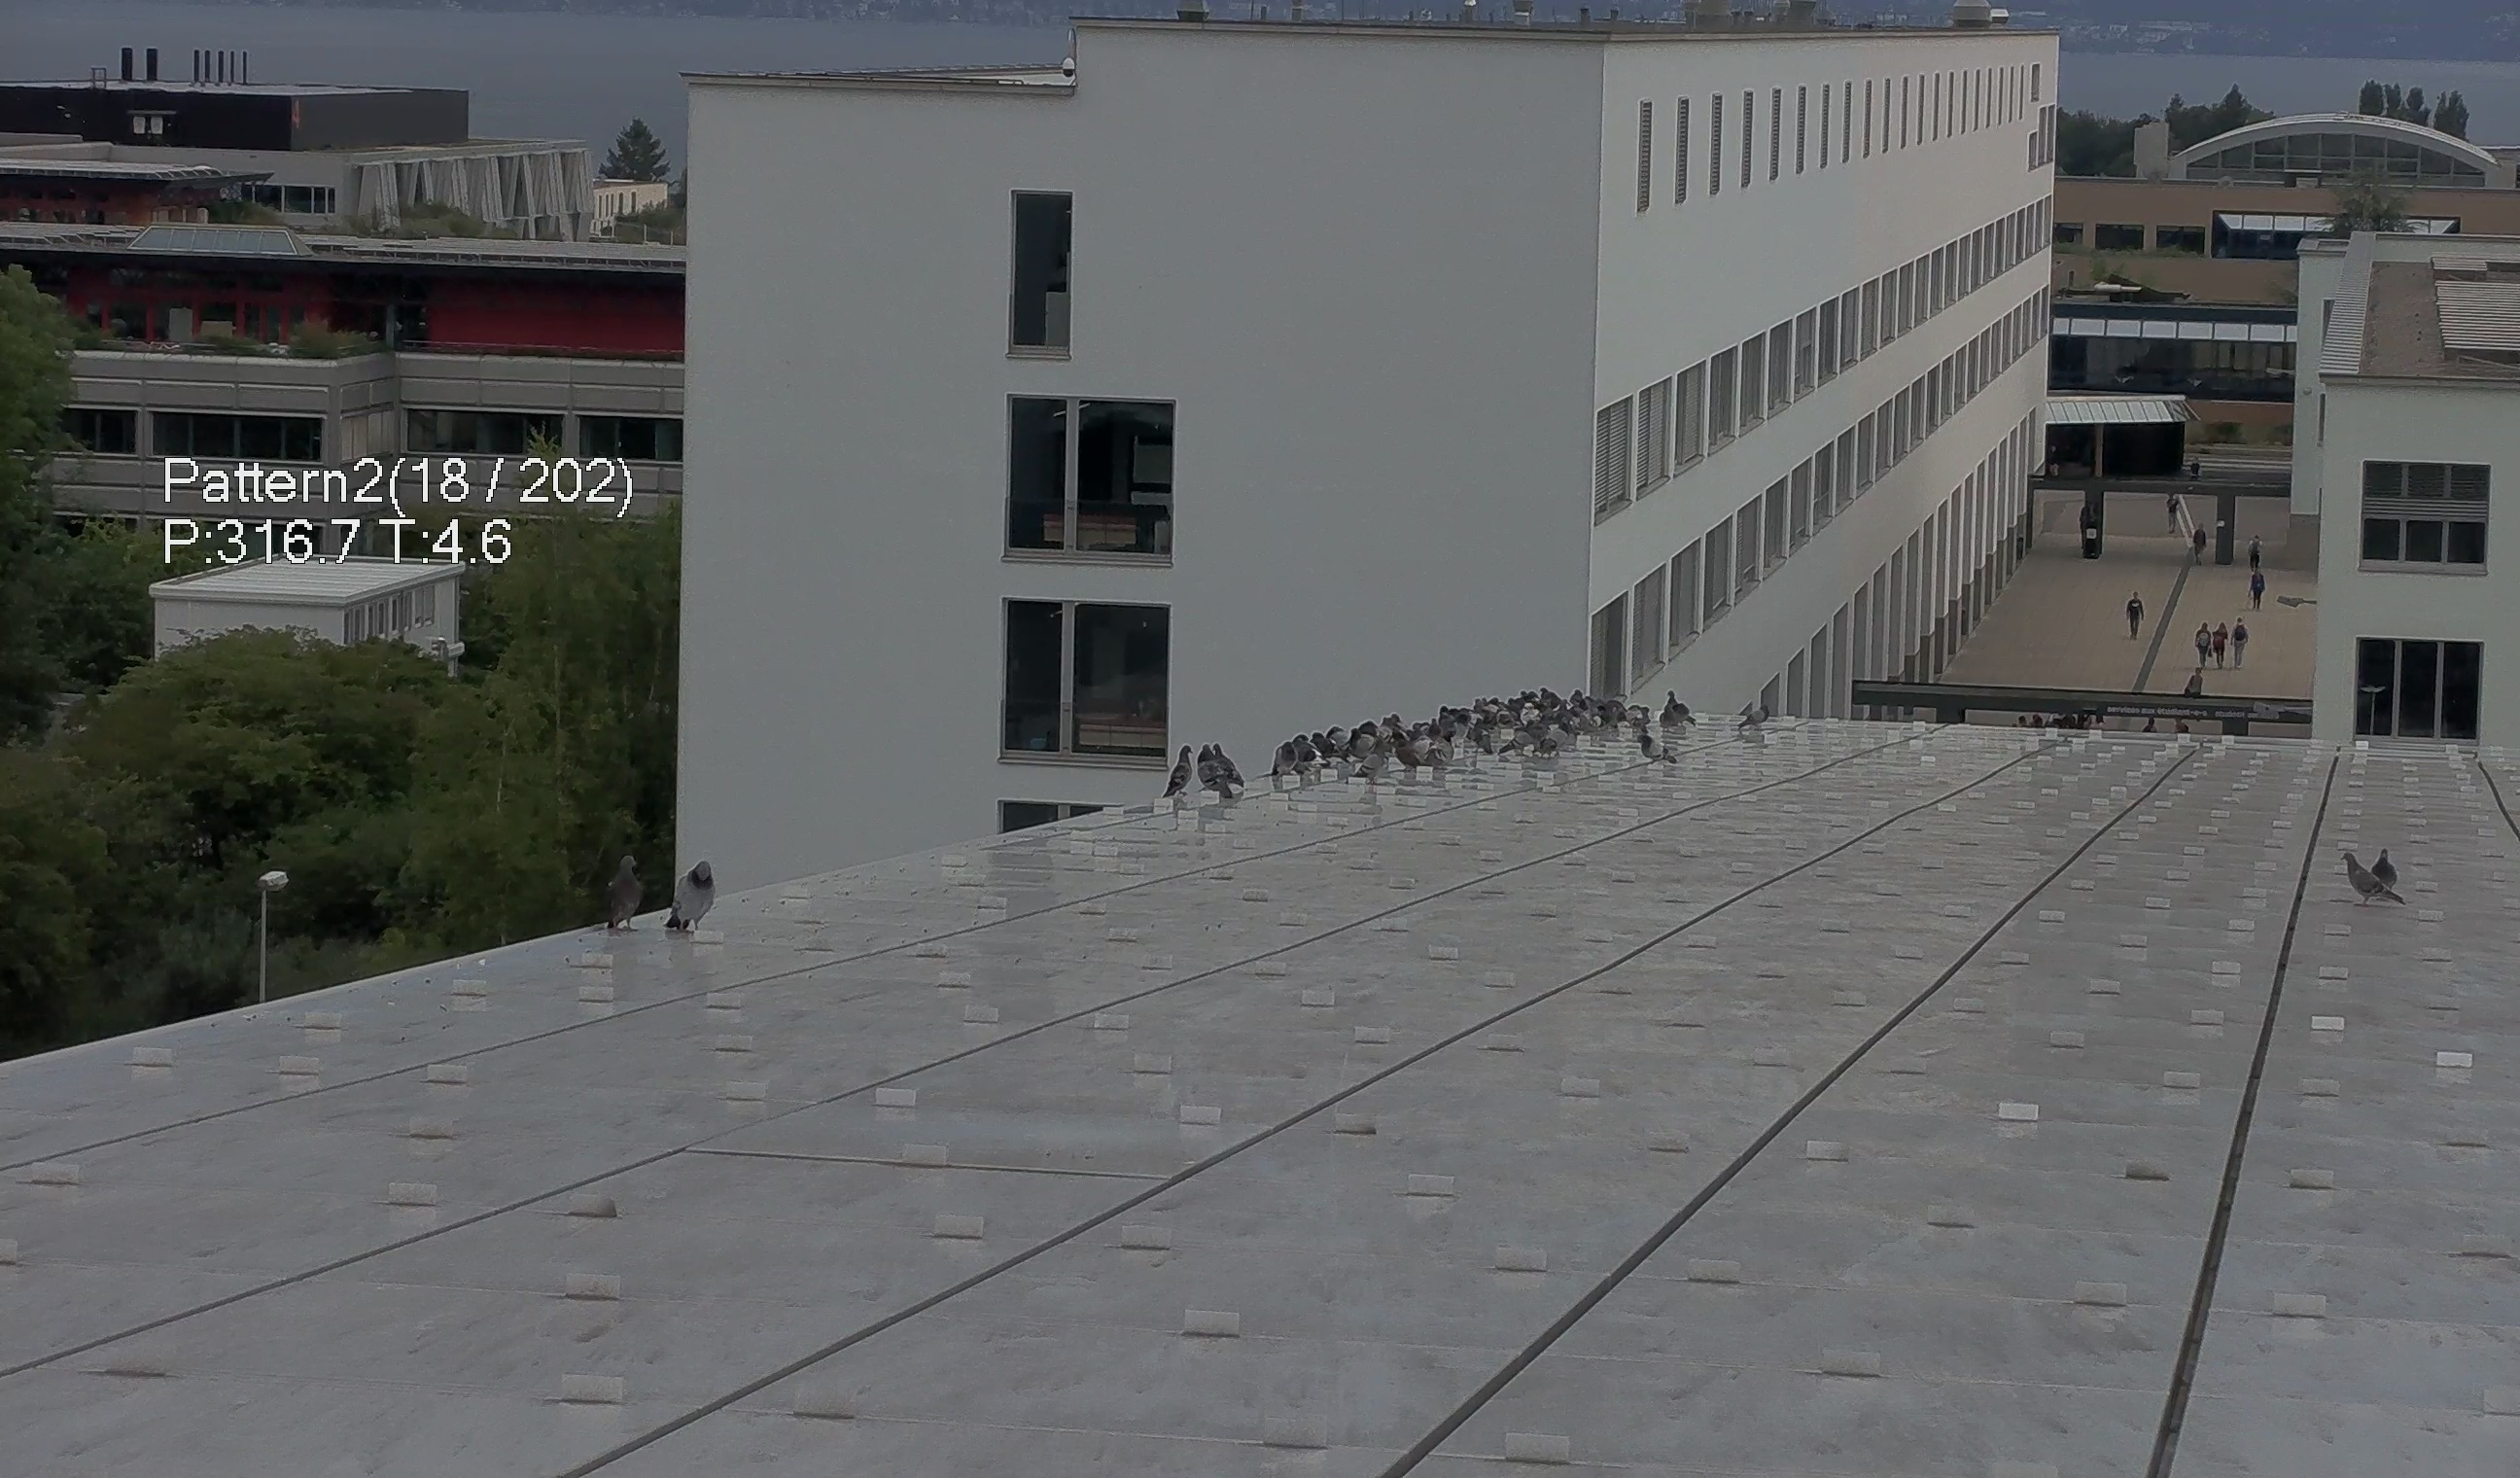Pigeon: (666, 850, 725, 941), (594, 848, 649, 943), (2341, 848, 2407, 917), (1159, 741, 1196, 801), (2367, 843, 2400, 901), (1199, 737, 1229, 799), (1354, 737, 1391, 785), (1210, 739, 1243, 788), (1419, 728, 1458, 769), (1664, 688, 1699, 730), (1632, 734, 1681, 764), (1495, 725, 1537, 757), (1736, 700, 1771, 732), (1270, 741, 1298, 779)
